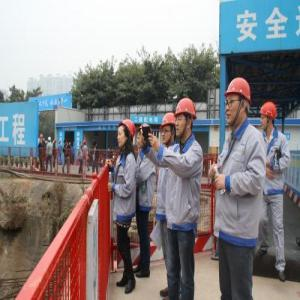red: (224, 75, 253, 131), (174, 95, 198, 144), (116, 118, 137, 153), (260, 101, 278, 138), (160, 112, 178, 145)
